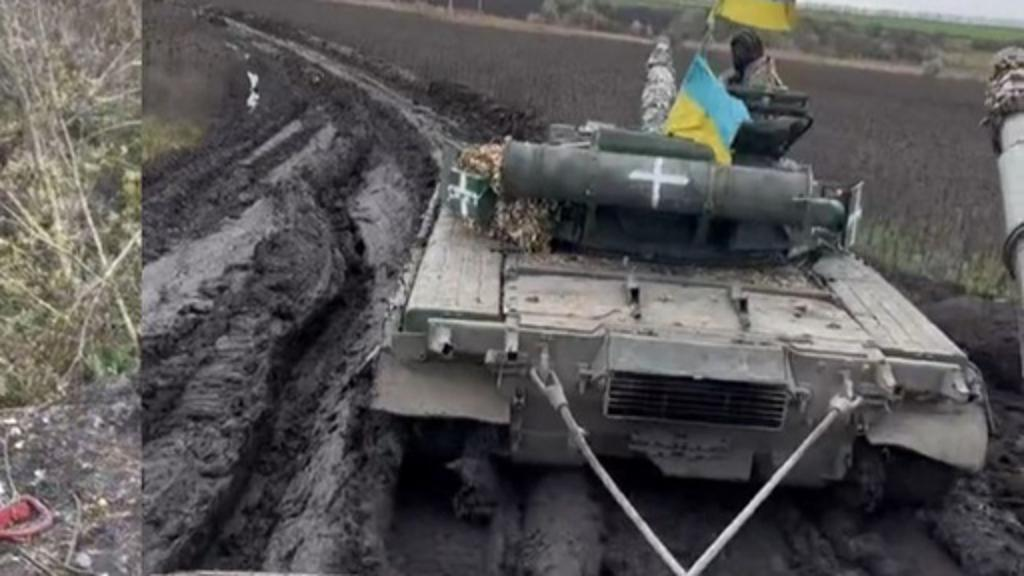TANK: (364, 18, 992, 510)
